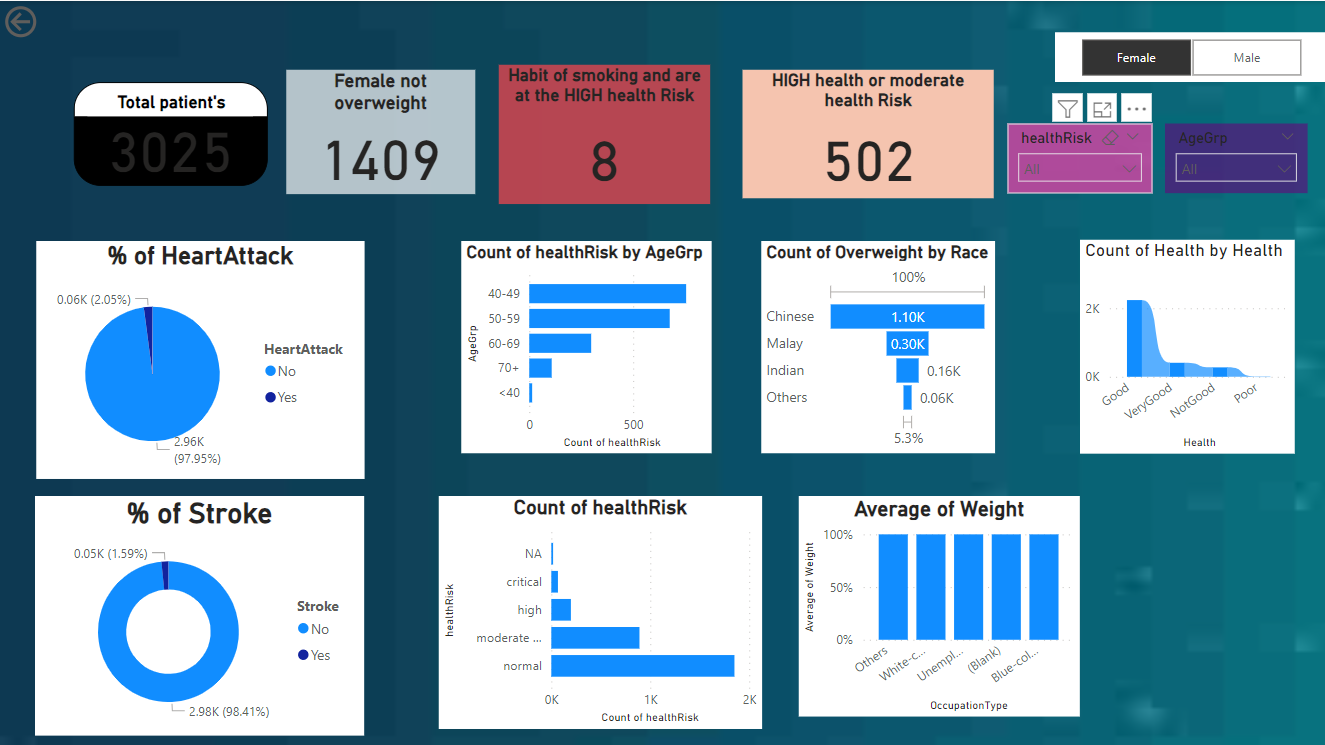

This screenshot's page, from the dashboard's own definition file:
{"tool":"powerbi","page":{"name":"Page 1","canvas":[1280,720],"ordinal":0},"visuals":[{"type":"card","title":"Total patient''s","fields":{"Values":["CountNonNull(Table1.scnZone)"]},"box":[71.2,78.4,186.9,100.1],"z":0},{"type":"pieChart","title":"% of HeartAttack ","fields":{"Category":["Table1.HeartAttack"],"Y":["CountNonNull(Table1.HeartAttack)"]},"box":[35.4,231,316.6,229.8],"z":1000},{"type":"donutChart","title":"% of Stroke","fields":{"Category":["Table1.Stroke"],"Y":["CountNonNull(Table1.Stroke)"]},"box":[34.2,478,317.8,231],"z":2000},{"type":"card","title":"Female  not overweight","fields":{"Values":["CountNonNull(Table1.Overweight)"]},"box":[276.3,66,182.1,119.8],"z":3000},{"type":"barChart","title":"Count of healthRisk ","fields":{"Category":["Table1.healthRisk"],"Y":["CountNonNull(Table1.healthRisk)"]},"box":[423,478,311.7,224.9],"z":4000},{"type":"hundredPercentStackedColumnChart","title":"Average of Weight ","fields":{"Y":["Avg(Table1.Weight)"],"Category":["Table1.OccupationType"]},"box":[770.1,478,271.4,212.7],"z":5000},{"type":"funnel","fields":{"Category":["Table1.Race"],"Y":["CountNonNull(Table1.Overweight)"]},"box":[734.5,231.6,225.5,205],"z":6000},{"type":"barChart","fields":{"Y":["CountNonNull(Table1.healthRisk)"],"Category":["Table1.AgeGrp"]},"box":[445,231.6,241.2,205],"z":7000},{"type":"card","title":"Habit of smoking and are at the HIGH health Risk","fields":{"Values":["CountNonNull(Table1.Smoking)"]},"box":[481.6,61.1,204.1,134.5],"z":8000},{"type":"actionButton","box":[0,0,100,40],"z":9000},{"type":"card","title":"HIGH health or moderate health Risk","fields":{"Values":["CountNonNull(Table1.Exercise)"]},"box":[716.4,66.3,242.4,124.2],"z":10000},{"type":"slicer","fields":{"Values":["Table1.Gender"]},"box":[1017.9,30.2,261.7,48.2],"z":11000},{"type":"slicer","fields":{"Values":["Table1.healthRisk"]},"box":[972.1,118.2,139.9,67.5],"z":12000},{"type":"slicer","fields":{"Values":["Table1.AgeGrp"]},"box":[1124,118.2,137.5,67.5],"z":13000},{"type":"ribbonChart","fields":{"Category":["Table1.Health"],"Y":["CountNonNull(Table1.Health)"]},"box":[1042,230.4,207.4,206.2],"z":13001}]}

Visuals, with their boxes in screenshot pixels (x1, y1, x2, y2), scaled from the page's 1280x720 canvas onto the 1325x745 screenshot:
"Total patient''s" card: left=74, top=81, right=267, bottom=185
"% of HeartAttack " pieChart: left=37, top=239, right=364, bottom=477
"% of Stroke" donutChart: left=35, top=495, right=364, bottom=734
"Female  not overweight" card: left=286, top=68, right=475, bottom=192
"Count of healthRisk " barChart: left=438, top=495, right=761, bottom=727
"Average of Weight " hundredPercentStackedColumnChart: left=797, top=495, right=1078, bottom=715
funnel - Table1.Race x CountNonNull(Table1.Overweight): left=760, top=240, right=994, bottom=452
barChart - CountNonNull(Table1.healthRisk) x Table1.AgeGrp: left=461, top=240, right=710, bottom=452
"Habit of smoking and are at the HIGH health Risk" card: left=499, top=63, right=710, bottom=202
actionButton: left=0, top=0, right=104, bottom=41
"HIGH health or moderate health Risk" card: left=742, top=69, right=993, bottom=197
slicer - Table1.Gender: left=1054, top=31, right=1324, bottom=81
slicer - Table1.healthRisk: left=1006, top=122, right=1151, bottom=192
slicer - Table1.AgeGrp: left=1164, top=122, right=1306, bottom=192
ribbonChart - Table1.Health x CountNonNull(Table1.Health): left=1079, top=238, right=1293, bottom=452
